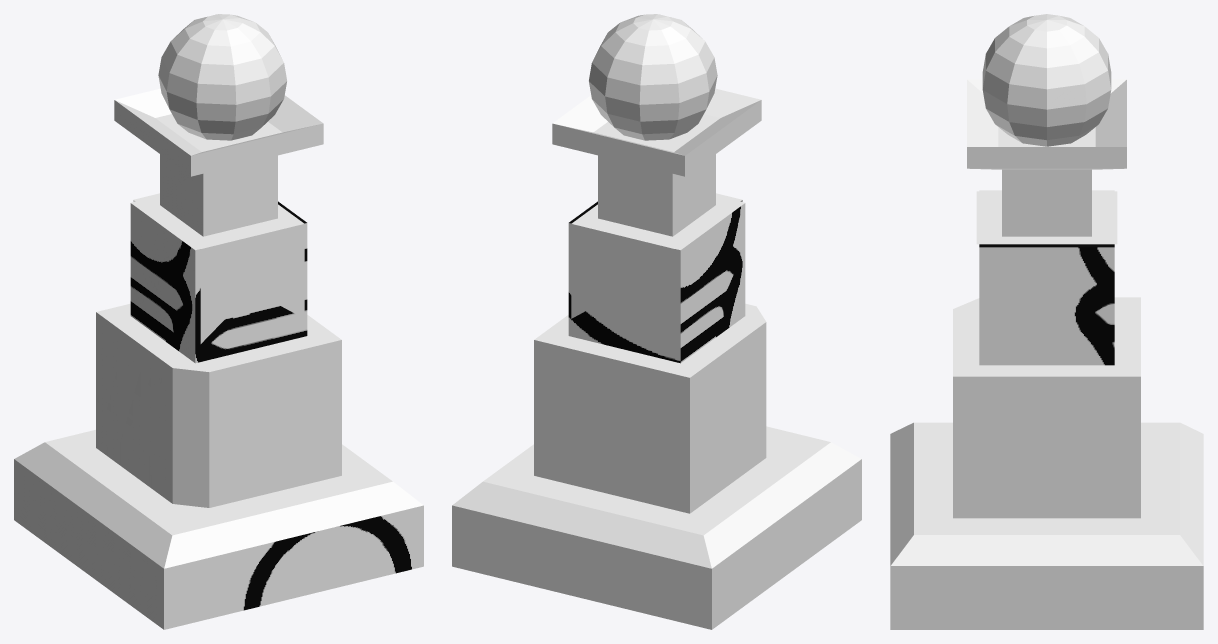
Rendered from Stone Pawn.fbx.
The picture shows the model from 3 angles, left to right: view 1: azimuth 30°, elevation 25°; view 2: azimuth 150°, elevation 25°; view 3: azimuth 270°, elevation 25°; orthographic projection. The views are drawn at different scales.
Visible parts, largest first — view 1: Stone_Pawn; view 2: Stone_Pawn; view 3: Stone_Pawn.
Part boxes in pixels (x1,y1,x2,y2): Stone_Pawn: (14, 14, 423, 629); Stone_Pawn: (452, 14, 861, 629); Stone_Pawn: (890, 14, 1203, 629).
Size of the model in its own units: 1 by 1.92 by 1.
